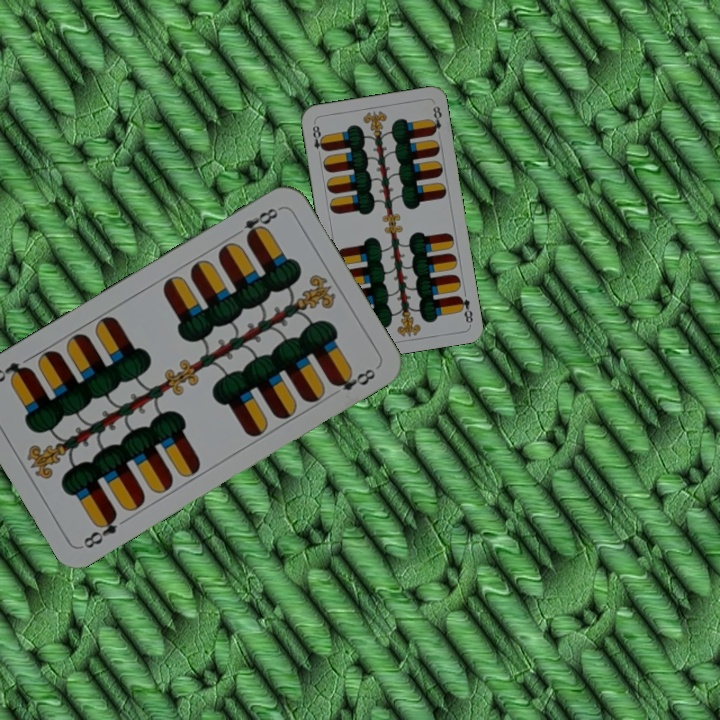E8: (229, 203, 283, 243), (79, 508, 120, 551), (308, 119, 328, 160), (454, 292, 476, 326)
